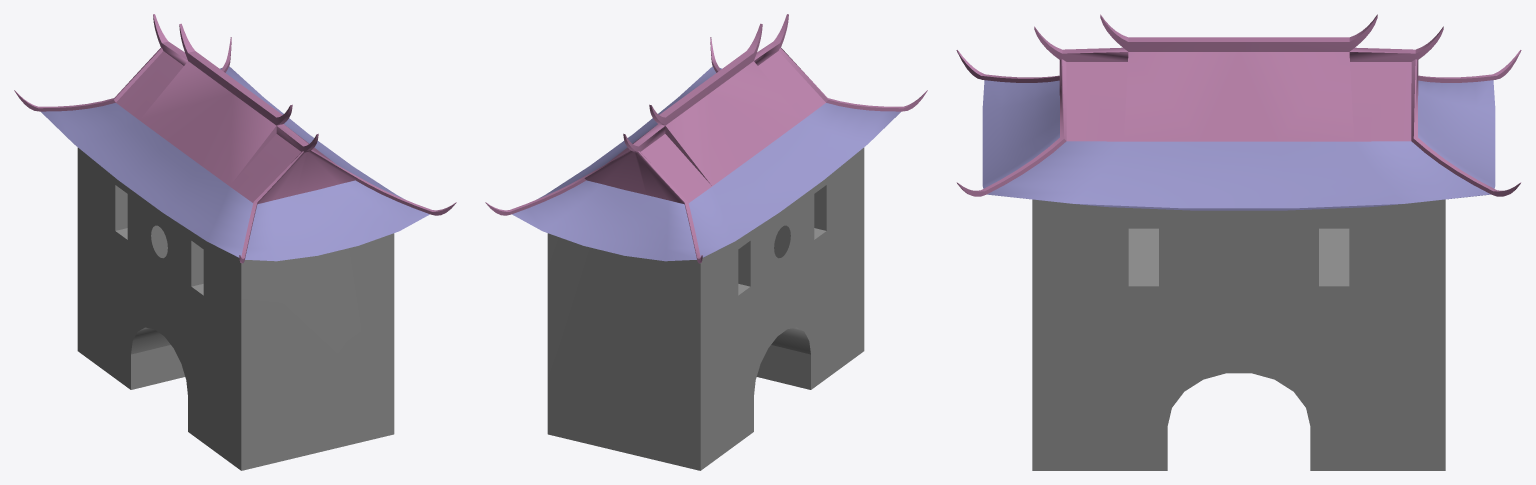
3 renders of one model, left to right at view 1: azimuth 30°, elevation 25°; view 2: azimuth 150°, elevation 25°; view 3: azimuth 270°, elevation 25°, orthographic. The views are drawn at different scales.
Parts seen in each view (by area): view 1: 5; view 2: 5; view 3: 5.
Part boxes in pixels (box(x1,y1,x2,y2)): 5: box(14, 14, 456, 470); 5: box(485, 14, 927, 470); 5: box(956, 14, 1521, 470).
Bounding box in the file's own units: 214 × 308 × 384.
